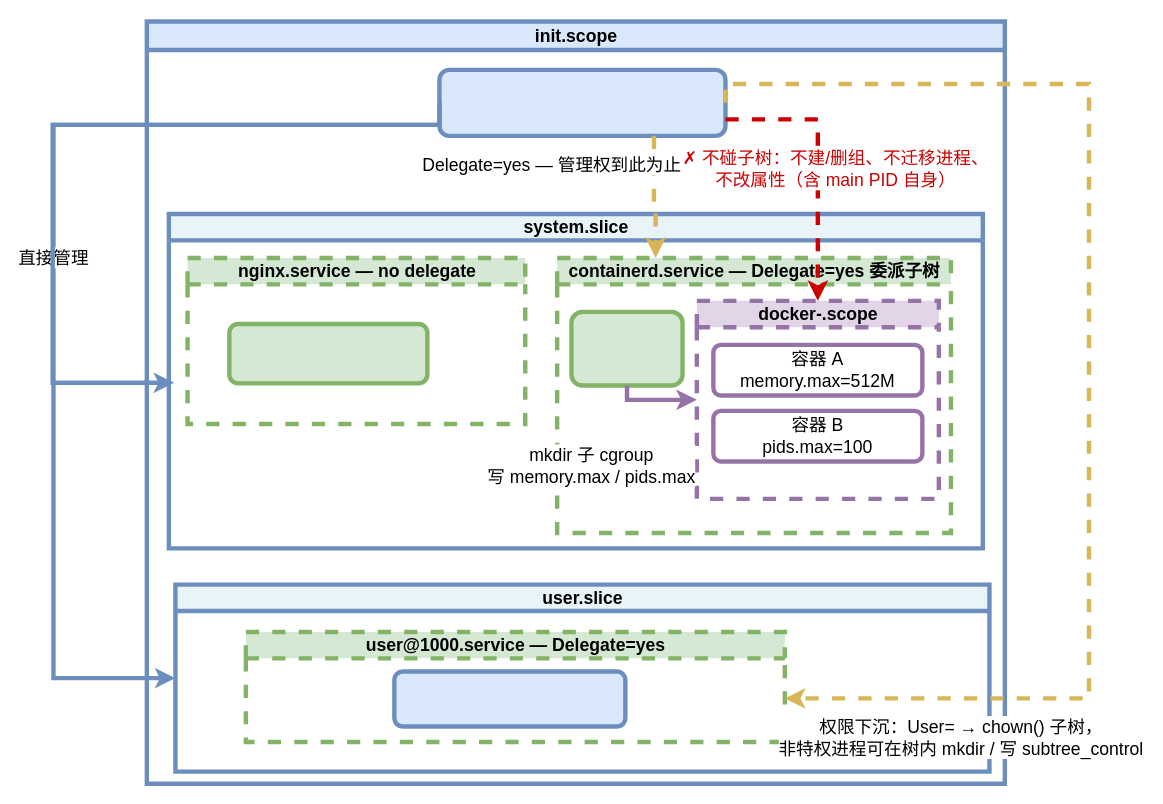
Image size: 1163x804. Some labels were removed from this diagram. Here are the shapes that lost their labels. From the top down, the centre of each, then its label:
the point at 582,102: systemd（PID 1） cgroup 层级 single-writer
the point at 328,353: nginx.service 普通 service（systemd 直接管理）
the point at 626,348: containerd / dockerd 进程（main PID）
the point at 509,698: systemd --user （用户级别systemd）
